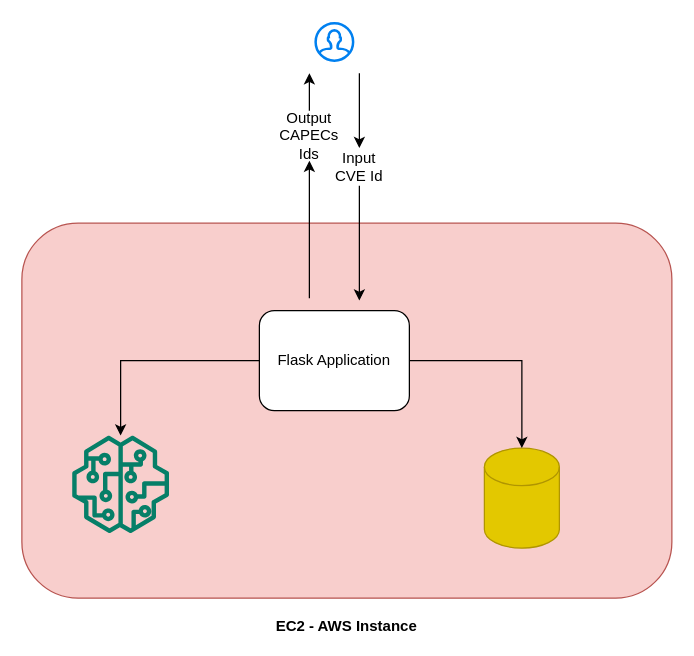
Image size: 694x656. Some labels were removed from this diagram. The centre of each missing label's shape, as x and y in pixels:
"CAPEC Vector Store" belongs at [521,497].
"Sentence-Transformer Model" belongs at [120,483].
